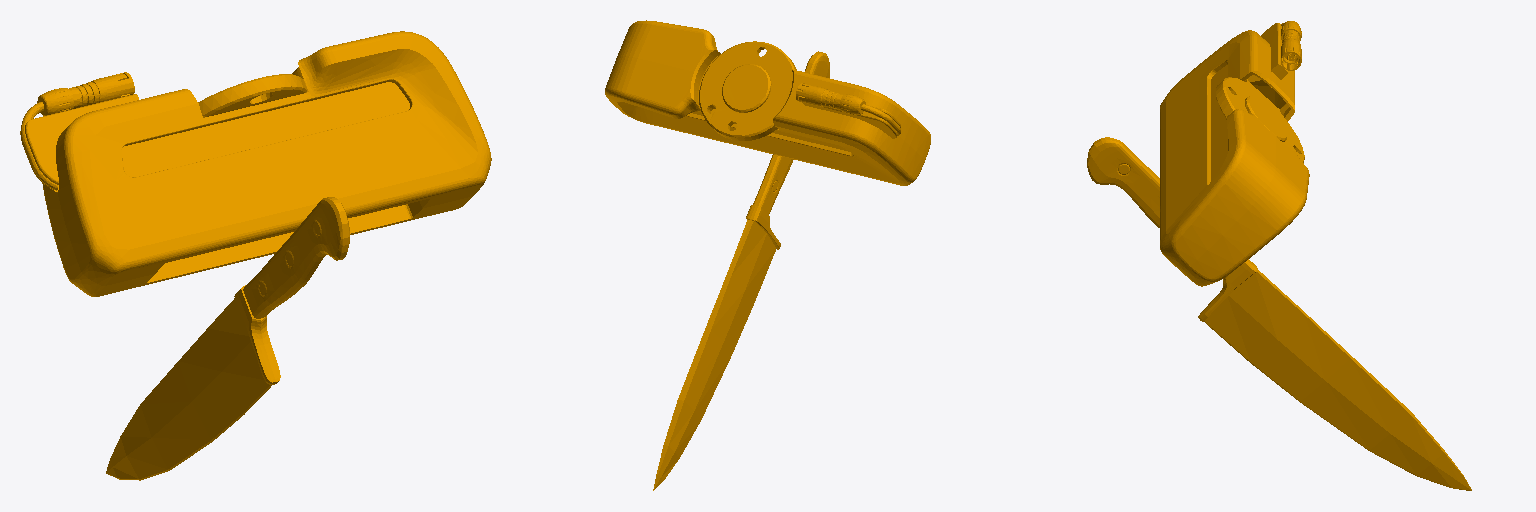
The robot description file, URDF, robot "panda":
<?xml version="1.0" ?>
<robot name="panda" xmlns:xacro="http://www.ros.org/wiki/xacro">
  <link name="panda_link0">
    <visual>
      <geometry>
        <mesh filename="meshes/visual/link0.dae"/>
      </geometry>
    </visual>
    <collision>
      <geometry>
        <mesh filename="meshes/collision/link0.obj"/>
      </geometry>
    </collision>
  </link>
  <link name="panda_link1">
    <visual>
      <geometry>
        <mesh filename="meshes/visual/link1.dae"/>
      </geometry>
    </visual>
    <collision>
      <geometry>
        <mesh filename="meshes/collision/link1.obj"/>
      </geometry>
    </collision>
  </link>
  <joint name="panda_joint1" type="revolute">
    <safety_controller k_position="100.0" k_velocity="40.0" soft_lower_limit="-2.8973" soft_upper_limit="2.8973"/>
    <origin rpy="0 0 0" xyz="0 0 0.333"/>
    <parent link="panda_link0"/>
    <child link="panda_link1"/>
    <axis xyz="0 0 1"/>
    <dynamics damping="10.0"/>
    <limit effort="87" lower="-2.8973" upper="2.8973" velocity="2.1750"/>
  </joint>
  <link name="panda_link2">
    <visual>
      <geometry>
        <mesh filename="meshes/visual/link2.dae"/>
      </geometry>
    </visual>
    <collision>
      <geometry>
        <mesh filename="meshes/collision/link2.obj"/>
      </geometry>
    </collision>
  </link>
  <joint name="panda_joint2" type="revolute">
    <safety_controller k_position="100.0" k_velocity="40.0" soft_lower_limit="-1.7628" soft_upper_limit="1.7628"/>
    <origin rpy="-1.57079632679 0 0" xyz="0 0 0"/>
    <parent link="panda_link1"/>
    <child link="panda_link2"/>
    <axis xyz="0 0 1"/>
    <dynamics damping="10.0"/>
    <limit effort="87" lower="-1.7628" upper="1.7628" velocity="2.1750"/>
  </joint>
  <link name="panda_link3">
    <visual>
      <geometry>
        <mesh filename="meshes/visual/link3.dae"/>
      </geometry>
    </visual>
    <collision>
      <geometry>
        <mesh filename="meshes/collision/link3.obj"/>
      </geometry>
    </collision>
  </link>
  <joint name="panda_joint3" type="revolute">
    <safety_controller k_position="100.0" k_velocity="40.0" soft_lower_limit="-2.8973" soft_upper_limit="2.8973"/>
    <origin rpy="1.57079632679 0 0" xyz="0 -0.316 0"/>
    <parent link="panda_link2"/>
    <child link="panda_link3"/>
    <axis xyz="0 0 1"/>
    <dynamics damping="10.0"/>
    <limit effort="87" lower="-2.8973" upper="2.8973" velocity="2.1750"/>
  </joint>
  <link name="panda_link4">
    <visual>
      <geometry>
        <mesh filename="meshes/visual/link4.dae"/>
      </geometry>
    </visual>
    <collision>
      <geometry>
        <mesh filename="meshes/collision/link4.obj"/>
      </geometry>
    </collision>
  </link>
  <joint name="panda_joint4" type="revolute">
    <safety_controller k_position="100.0" k_velocity="40.0" soft_lower_limit="-3.0718" soft_upper_limit="-0.0698"/>
    <origin rpy="1.57079632679 0 0" xyz="0.0825 0 0"/>
    <parent link="panda_link3"/>
    <child link="panda_link4"/>
    <axis xyz="0 0 1"/>    
    <dynamics damping="10.0"/>
    <limit effort="87" lower="-3.0718" upper="-0.0698" velocity="2.1750"/>
    <!-- something is weird with this joint limit config
    <dynamics damping="10.0"/>
    <limit effort="87" lower="-3.0" upper="0.087" velocity="2.1750"/>  -->
  </joint>
  <link name="panda_link5">
    <visual>
      <geometry>
        <mesh filename="meshes/visual/link5.dae"/>
      </geometry>
    </visual>
    <collision>
      <geometry>
        <mesh filename="meshes/collision/link5.obj"/>
      </geometry>
    </collision>
  </link>
  <joint name="panda_joint5" type="revolute">
    <safety_controller k_position="100.0" k_velocity="40.0" soft_lower_limit="-2.8973" soft_upper_limit="2.8973"/>
    <origin rpy="-1.57079632679 0 0" xyz="-0.0825 0.384 0"/>
    <parent link="panda_link4"/>
    <child link="panda_link5"/>
    <axis xyz="0 0 1"/>
    <dynamics damping="10.0"/>
    <limit effort="12" lower="-2.8973" upper="2.8973" velocity="2.6100"/>
  </joint>
  <link name="panda_link6">
    <visual>
      <geometry>
        <mesh filename="meshes/visual/link6.dae"/>
      </geometry>
    </visual>
    <collision>
      <geometry>
        <mesh filename="meshes/collision/link6.obj"/>
      </geometry>
    </collision>
  </link>
  <joint name="panda_joint6" type="revolute">
    <safety_controller k_position="100.0" k_velocity="40.0" soft_lower_limit="-0.0175" soft_upper_limit="3.7525"/>
    <origin rpy="1.57079632679 0 0" xyz="0 0 0"/>
    <parent link="panda_link5"/>
    <child link="panda_link6"/>
    <axis xyz="0 0 1"/>
    <dynamics damping="10.0"/>
    <limit effort="12" lower="-0.0175" upper="3.7525" velocity="2.6100"/>
    <!-- <dynamics damping="10.0"/>
    <limit effort="12" lower="-0.0873" upper="3.0" velocity="2.6100"/> -->
  </joint>
  <link name="panda_link7">
    <visual>
      <geometry>
        <mesh filename="meshes/visual/link7.dae"/>
      </geometry>
    </visual>
    <collision>
      <geometry>
        <mesh filename="meshes/collision/link7.obj"/>
      </geometry>
    </collision>
  </link>
  <joint name="panda_joint7" type="revolute">
    <safety_controller k_position="100.0" k_velocity="40.0" soft_lower_limit="-2.8973" soft_upper_limit="2.8973"/>
    <origin rpy="1.57079632679 0 0" xyz="0.088 0 0"/>
    <parent link="panda_link6"/>
    <child link="panda_link7"/>
    <axis xyz="0 0 1"/>
    <dynamics damping="10.0"/>
    <limit effort="12" lower="-2.8973" upper="2.8973" velocity="2.6100"/>
  </joint>
  <!--
  <link name="panda_link8"/>
  <joint name="panda_joint8" type="fixed">
    <origin rpy="0 0 0" xyz="0 0 0.107"/>
    <parent link="panda_link7"/>
    <child link="panda_link8"/>
    <axis xyz="0 0 0"/>
  </joint>
  Removing this joint seems to help with some stability things
  -->
  <joint name="panda_hand_joint" type="fixed">
    <!--
    <parent link="panda_link8"/>
    -->
    <parent link="panda_link7"/>
    <child link="panda_hand"/>
    <origin rpy="0 0 -0.785398163397" xyz="0 0 0.107"/>
    <!--
    <origin rpy="0 0 -0.785398163397" xyz="0 0 0"/>
    -->
  </joint>
  <link name="panda_hand">
    <visual>
      <geometry>
        <mesh filename="meshes/visual/knife_hand.obj"/>
      </geometry>
    </visual>
    <collision>
      <geometry>
        <mesh filename="meshes/collision/knife.obj"/>
      </geometry>
    </collision>
  <inertial>
    <mass value="0.5"/> 
    <inertia ixx="0.0001" ixy="0.0" ixz="0.0" iyy="0.0001" iyz="0.0" izz="0.0001"/>
  </inertial>
  </link>
  <link name="panda_leftfinger">
    <visual>
      <geometry>
        <mesh filename="meshes/visual/finger.dae"/>
      </geometry>
    </visual>
    <collision>
      <geometry>
        <mesh filename="meshes/collision/finger.obj"/>
      </geometry>
    </collision>
  </link>
  <link name="panda_rightfinger">
    <visual>
      <origin rpy="0 0 3.14159265359" xyz="0 0 0"/>
      <geometry>
        <mesh filename="meshes/visual/finger.dae"/>
      </geometry>
    </visual>
    <collision>
      <origin rpy="0 0 3.14159265359" xyz="0 0 0"/>
      <geometry>
        <mesh filename="meshes/collision/finger.obj"/>
      </geometry>
    </collision>
  </link>
  <joint name="panda_finger_joint1" type="prismatic">
    <parent link="panda_hand"/>
    <child link="panda_leftfinger"/>
    <origin rpy="0 0 0" xyz="0 0 0.0584"/>
    <axis xyz="0 1 0"/>
    <dynamics damping="10.0"/>
    <limit effort="20" lower="0.0" upper="0.04" velocity="0.2"/>
  </joint>
  <joint name="panda_finger_joint2" type="prismatic">
    <parent link="panda_hand"/>
    <child link="panda_rightfinger"/>
    <origin rpy="0 0 0" xyz="0 0 0.0584"/>
    <axis xyz="0 -1 0"/>
    <dynamics damping="10.0"/>
    <limit effort="20" lower="0.0" upper="0.04" velocity="0.2"/>
    <mimic joint="panda_finger_joint1"/>
  </joint>
</robot>

--- Facts derived from the render (not from the file) ---
3 views of the same robot in one strip: view 1: azimuth 30°, elevation 25°; view 2: azimuth 150°, elevation 25°; view 3: azimuth 270°, elevation 25° (orthographic).
Model panda with 11 links and 10 joints (7 revolute, 2 prismatic, 1 fixed), rooted at panda_link0, posed joints at zero except 1 at the middle of their limits (panda_joint4 = -1.57).
Links seen in each view (by area): view 1: panda_hand; view 2: panda_hand; view 3: panda_hand.
Link boxes in pixels (x1,y1,x2,y2): panda_hand: (20, 31, 491, 480); panda_hand: (605, 20, 930, 490); panda_hand: (1087, 21, 1471, 490).
Bounding box of the posed robot: 0.2045 × 0.2101 × 0.2469 m (x, y, z).
1 mesh visuals loaded from 10 distinct referenced files (1 OBJ); not drawn: 10 (reference not matched to a file when rendering).